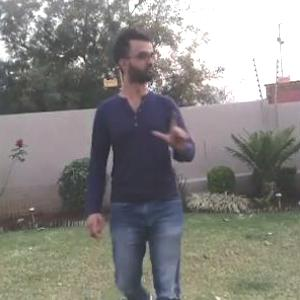land_hand: (150, 108, 193, 154)
